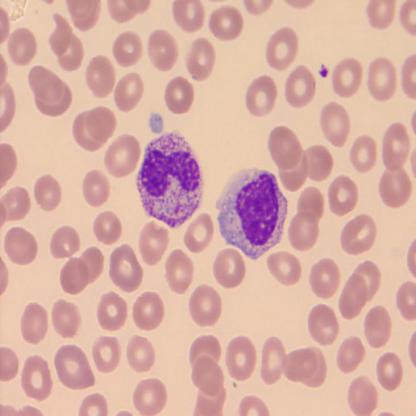Metamyelocyte: (214, 165, 290, 263)
